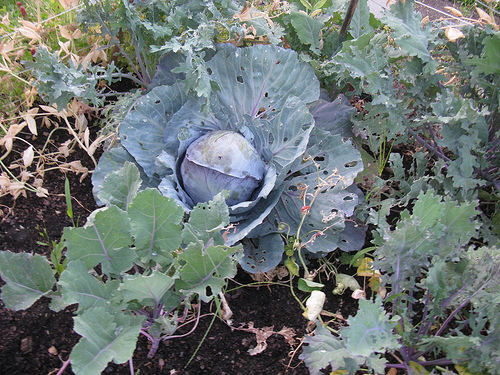cabbage: (112, 49, 448, 332)
